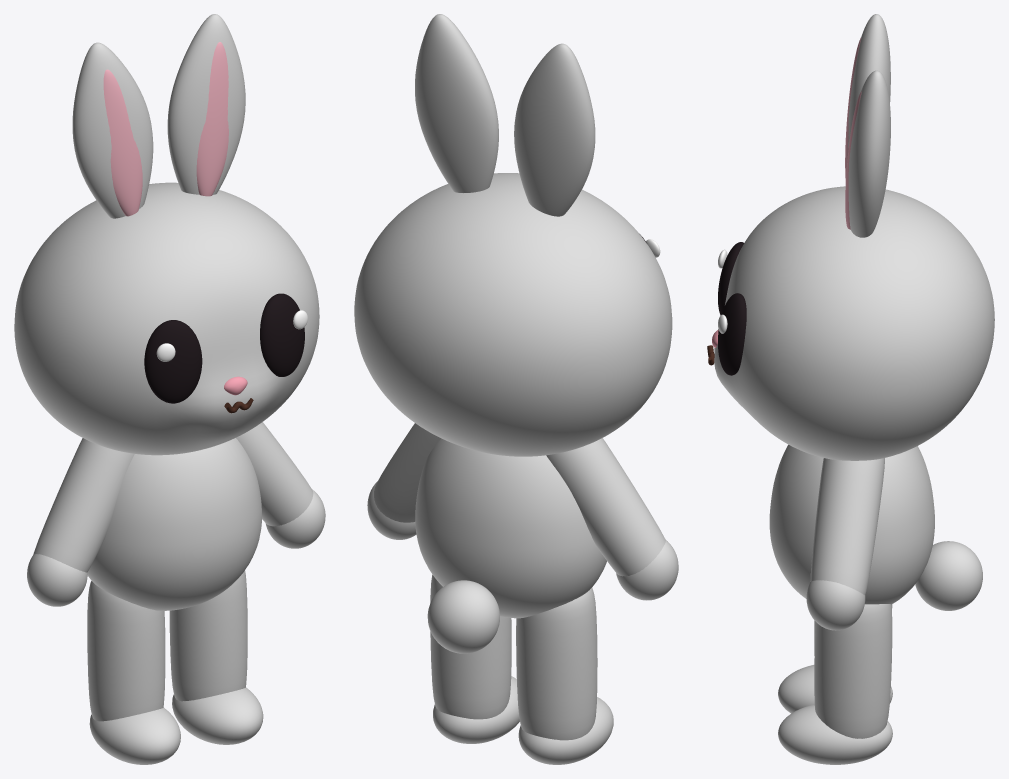
The model's file is villager_rabbit.glb.
3 renders of one model, left to right at view 1: azimuth 30°, elevation 25°; view 2: azimuth 150°, elevation 25°; view 3: azimuth 270°, elevation 25°, orthographic. The views are drawn at different scales.
Visible parts, largest first — view 1: head, torso, legL, legR, armL, earR, earL, armR, eyeL, earInL, earInR, eyeR; view 2: head, torso, legL, earR, earL, armL, legR, armR, tail; view 3: head, torso, legR, armR, earR, tail, earL, eyeR, legL, eyeL.
Part boxes in pixels (box(x1,y1,x2,y2)): head: box(14, 182, 319, 455); torso: box(87, 438, 261, 610); legL: box(87, 581, 180, 764); legR: box(169, 570, 263, 744); armL: box(27, 438, 134, 606); earR: box(167, 14, 245, 194); earL: box(72, 42, 153, 218); armR: box(236, 422, 325, 548); eyeL: box(144, 320, 202, 403); earInL: box(103, 69, 142, 216); earInR: box(196, 42, 228, 196); eyeR: box(260, 293, 304, 376); head: box(354, 173, 672, 456); torso: box(415, 438, 606, 618); legL: box(516, 587, 613, 764); earR: box(415, 14, 498, 192); earL: box(514, 43, 595, 216); armL: box(546, 438, 678, 600); legR: box(430, 574, 519, 743); armR: box(367, 423, 441, 539); tail: box(427, 580, 499, 653); head: box(714, 186, 994, 460); torso: box(769, 444, 934, 604); legR: box(778, 604, 892, 764); armR: box(806, 458, 884, 630); earR: box(848, 70, 890, 237); tail: box(915, 541, 982, 610); earL: box(848, 14, 890, 147); eyeR: box(718, 293, 746, 375); legL: box(778, 604, 892, 713); eyeL: box(718, 242, 743, 315).
Size of what is drawn, in the model's own units: 0.7068 by 1.63 by 0.6102.
